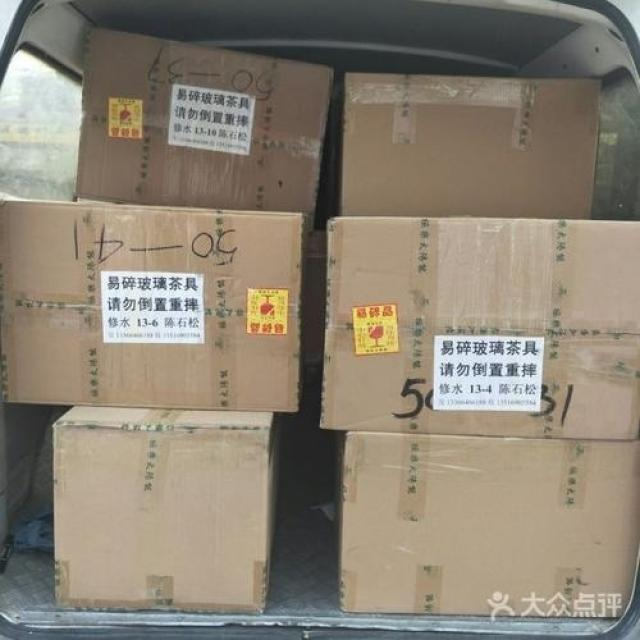box: (320, 215, 639, 440), (0, 196, 303, 412), (340, 433, 639, 617), (74, 28, 334, 216), (53, 404, 273, 612), (314, 71, 601, 218)
